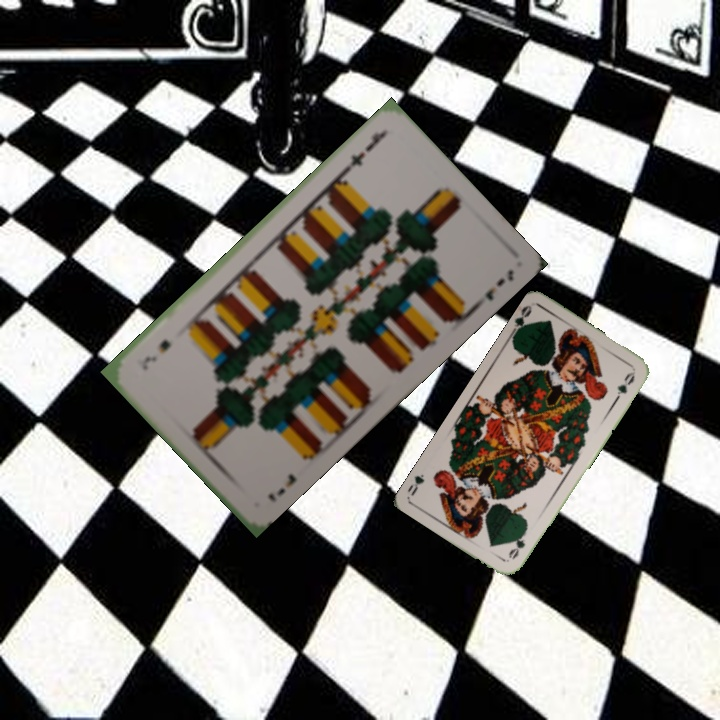E7: (341, 127, 389, 174), (264, 469, 299, 505)
GO: (506, 301, 534, 339), (504, 525, 530, 562)
